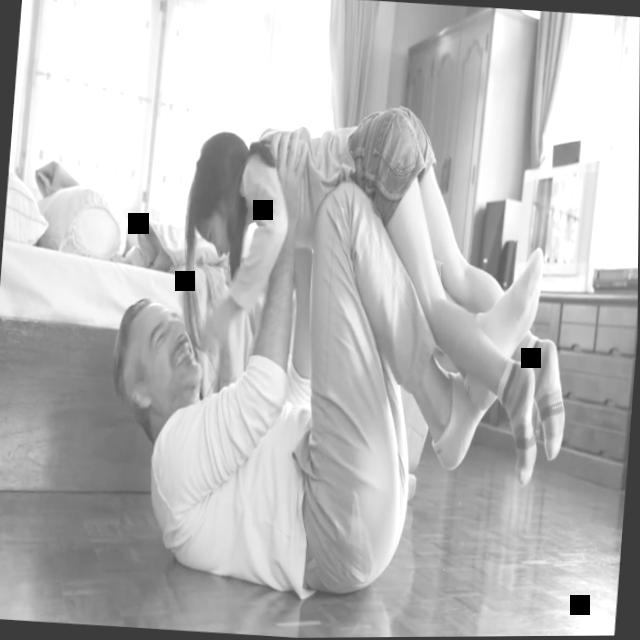NO-Mask: (130, 298, 208, 402), (193, 203, 236, 259)
